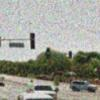traffic lights: (30, 33, 36, 50)
